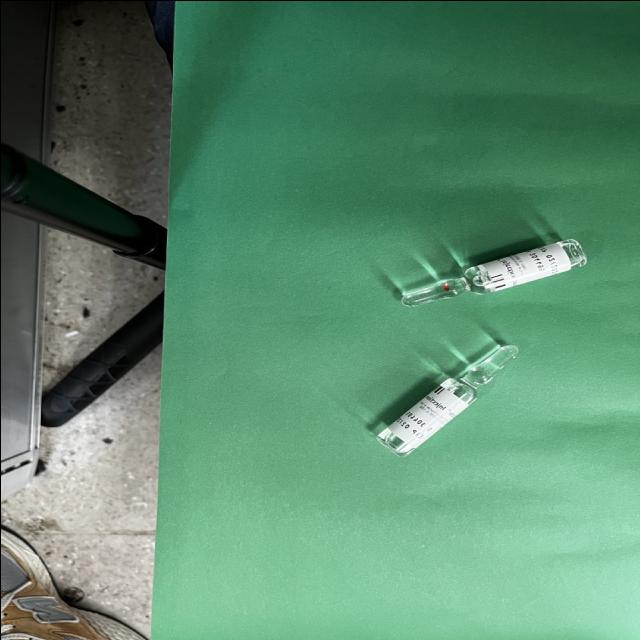Ampoules: (376, 342, 517, 454), (401, 238, 585, 306)
